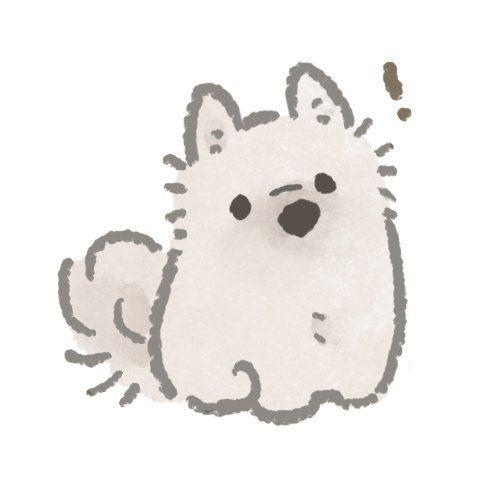puppy-dog: (49, 52, 408, 431)
